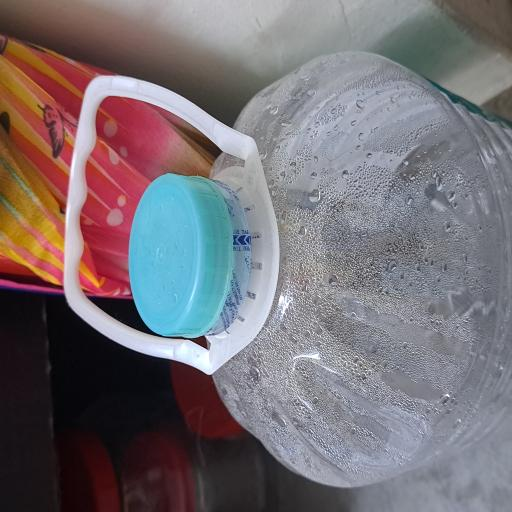plastic bottle: (18, 270, 349, 512)
plastic bottle cap: (128, 169, 253, 304)
